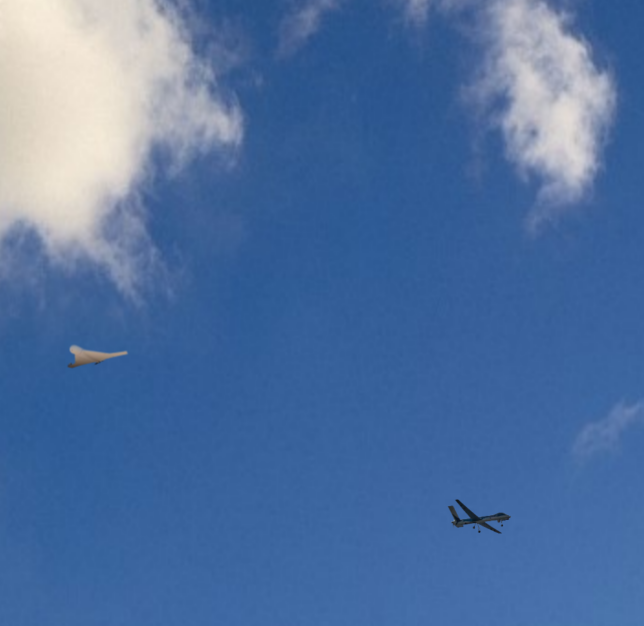military drone: (448, 498, 511, 534), (66, 344, 128, 369)
